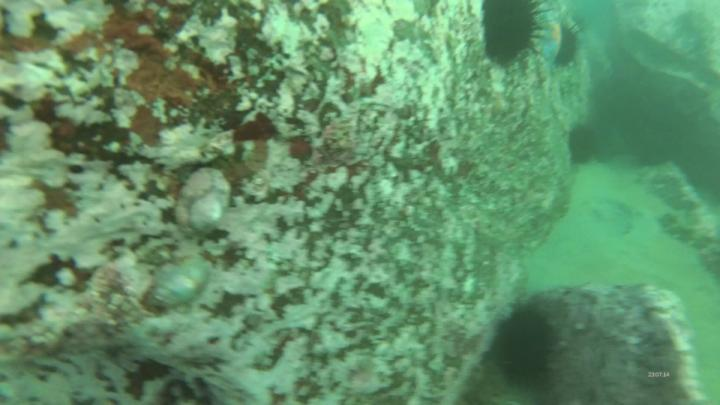echinus: (496, 304, 557, 389), (482, 2, 543, 69), (569, 121, 598, 166), (560, 24, 583, 72)
starfish: (542, 22, 562, 60)
